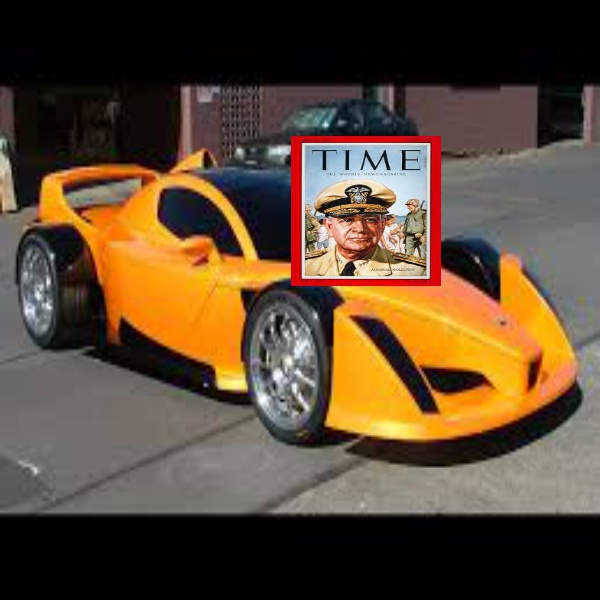time_cover: (291, 125, 445, 289)
